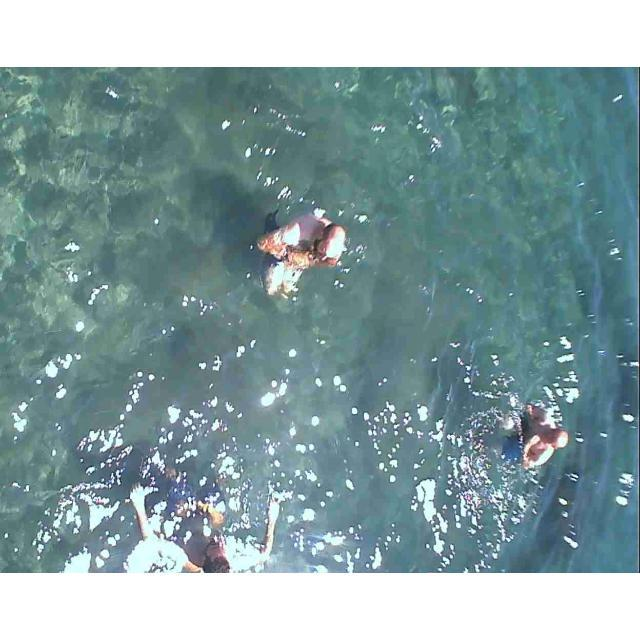human: (256, 186, 350, 292), (504, 386, 585, 487)
